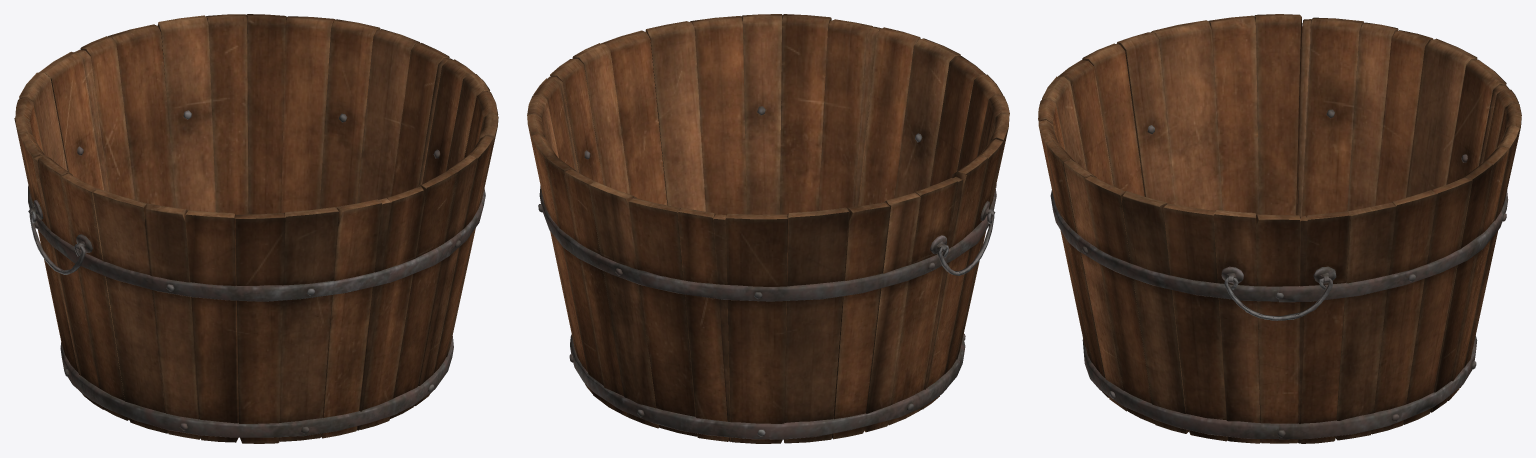
The model's file is wooden_bucket_02.glb.
3 views of the same model, side by side, from view 1: azimuth 30°, elevation 25°; view 2: azimuth 150°, elevation 25°; view 3: azimuth 270°, elevation 25° (orthographic).
Visible parts, largest first — view 1: wooden_bucket_02, wooden_bucket_02_handle_01; view 2: wooden_bucket_02, wooden_bucket_02_handle_01; view 3: wooden_bucket_02, wooden_bucket_02_handle_02.
Part boxes in pixels (<box>): wooden_bucket_02: <box>14,14,498,443</box>; wooden_bucket_02_handle_01: <box>29,211,85,274</box>; wooden_bucket_02: <box>527,14,1009,443</box>; wooden_bucket_02_handle_01: <box>937,212,994,275</box>; wooden_bucket_02: <box>1038,14,1521,443</box>; wooden_bucket_02_handle_02: <box>1224,276,1332,320</box>.
Bounding box in the file's own units: 0.6139 × 0.3508 × 0.6148.
Materials: 1 (1 with a texture image).
